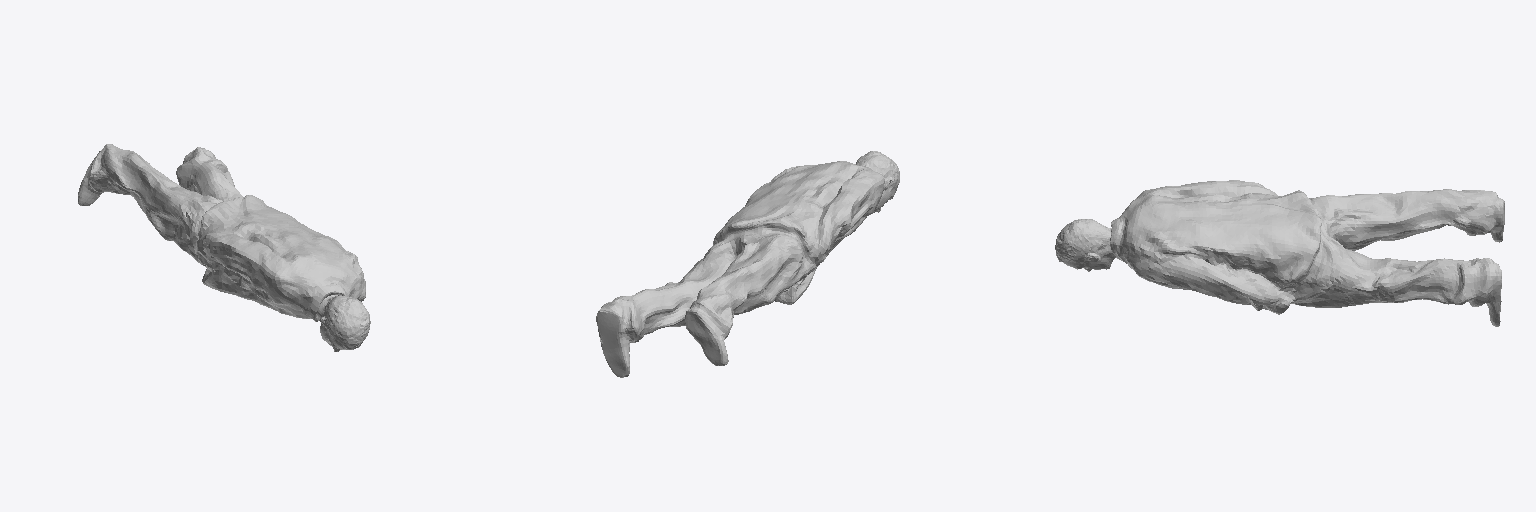
Rendered from Man_N070315.obj.
3 views of the same model, side by side, from view 1: azimuth 30°, elevation 25°; view 2: azimuth 150°, elevation 25°; view 3: azimuth 270°, elevation 25° (orthographic).
Visible parts, largest first — view 1: P_xoio_Bod, P_xoio_Hea; view 2: P_xoio_Bod, P_xoio_Hea; view 3: P_xoio_Bod, P_xoio_Hea.
Boxes of the visible parts, x1=… form: P_xoio_Bod: x1=78, y1=144, x2=365, y2=321; P_xoio_Hea: x1=317, y1=283, x2=370, y2=351; P_xoio_Bod: x1=596, y1=161, x2=884, y2=377; P_xoio_Hea: x1=856, y1=151, x2=899, y2=213; P_xoio_Bod: x1=1110, y1=180, x2=1504, y2=326; P_xoio_Hea: x1=1055, y1=219, x2=1122, y2=271.
Size of the model in its own units: 0.6559 by 0.4679 by 1.86.